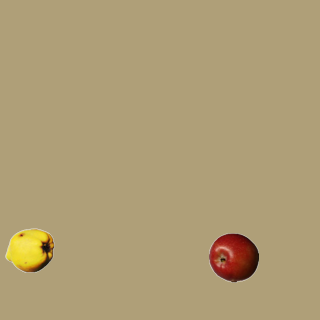Apple Braeburn: (208, 232, 258, 282)
Quince: (4, 225, 54, 275)
